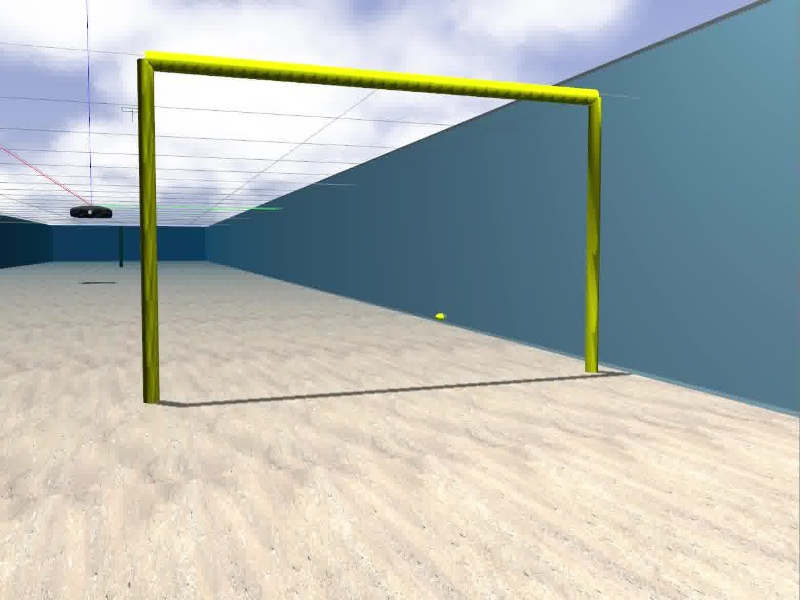gate: (137, 51, 605, 406)
